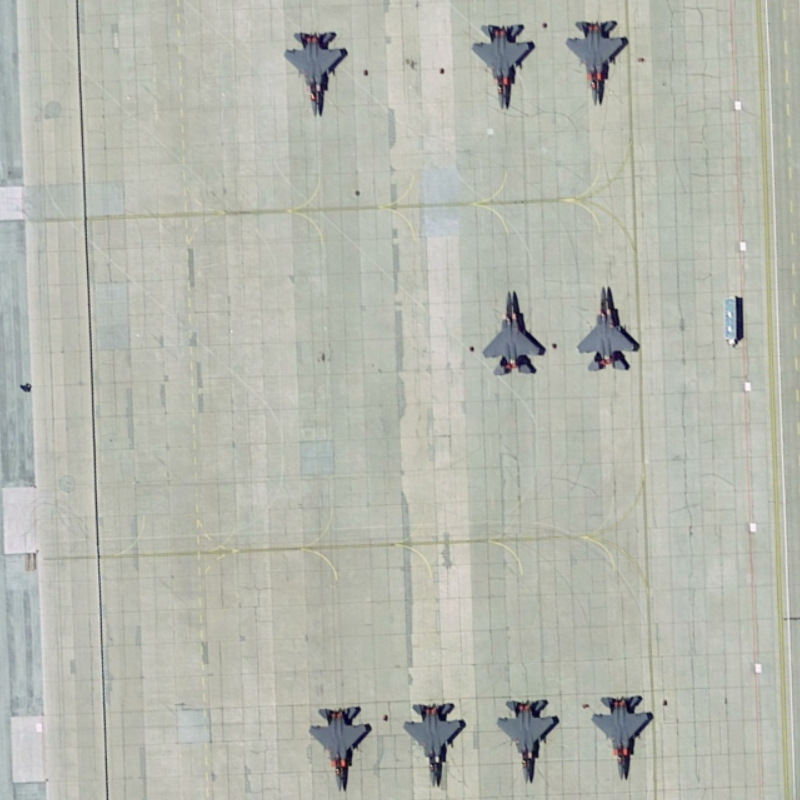A13: (583, 683, 660, 785), (396, 695, 474, 794), (464, 16, 537, 115), (280, 23, 353, 119), (571, 284, 644, 378), (493, 693, 566, 787), (304, 698, 373, 794), (561, 14, 632, 107), (477, 285, 545, 382)
